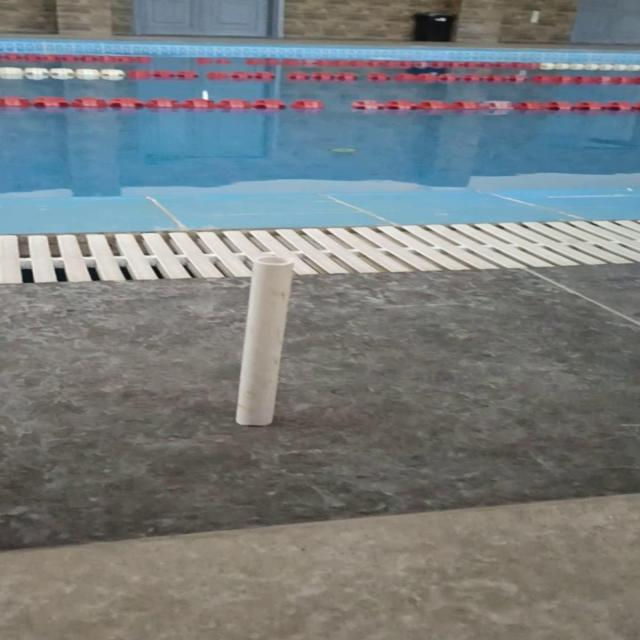Cube: (233, 254, 294, 426)
